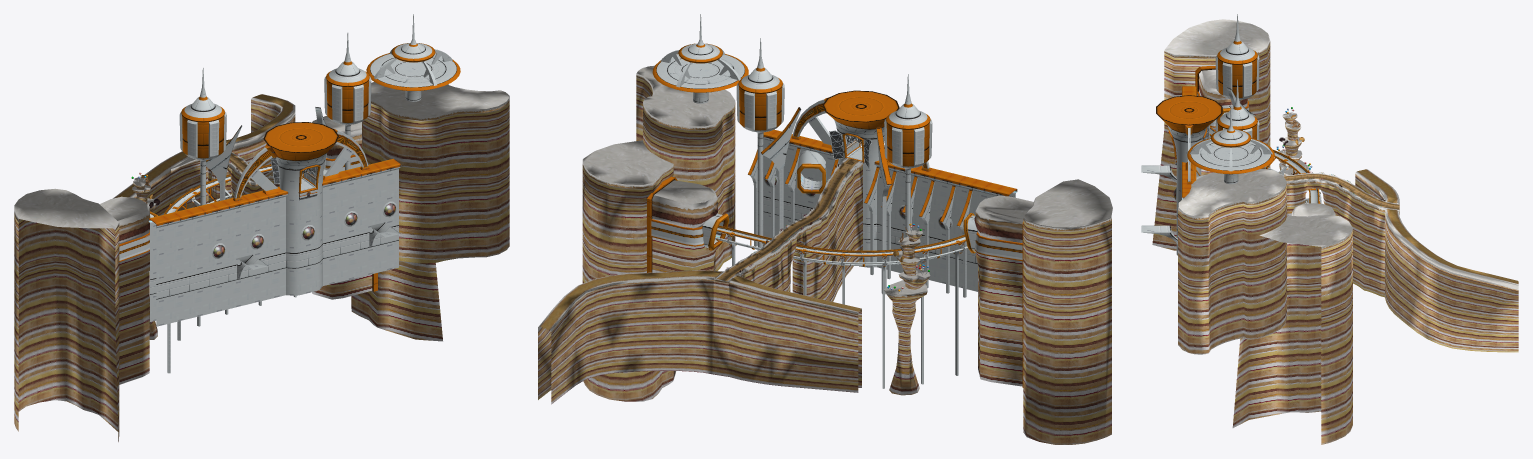
File: stg210_02.obj
3 renders of one model, left to right at view 1: azimuth 30°, elevation 25°; view 2: azimuth 150°, elevation 25°; view 3: azimuth 270°, elevation 25°, orthographic. The views are drawn at different scales.
Parts seen in each view (by area): view 1: polygon102, polygon137, polygon5, polygon99, polygon142, polygon104, polygon9, polygon4, polygon141, polygon139, polygon7, polygon0 (+16 smaller); view 2: polygon9, polygon102, polygon99, polygon10, polygon5, polygon7, polygon104, polygon101, polygon4, polygon97, polygon141, polygon139 (+29 smaller); view 3: polygon99, polygon5, polygon9, polygon102, polygon7, polygon4, polygon104, polygon101, polygon139, polygon137, polygon0, polygon153 (+15 smaller).
Part boxes in pixels (box(x1,y1,x2,y2)): polygon102: box(14, 211, 150, 441); polygon137: box(156, 131, 399, 326); polygon5: box(362, 102, 509, 263); polygon99: box(312, 136, 442, 341); polygon142: box(156, 179, 400, 299); polygon104: box(14, 188, 147, 228); polygon9: box(136, 101, 295, 215); polygon4: box(371, 82, 508, 117); polygon141: box(148, 128, 400, 228); polygon139: box(263, 122, 338, 160); polygon7: box(113, 94, 302, 198); polygon0: box(370, 53, 456, 87); polygon9: box(538, 166, 862, 404); polygon102: box(974, 214, 1111, 444); polygon99: box(582, 166, 717, 401); polygon10: box(763, 139, 996, 291); polygon5: box(636, 77, 735, 270); polygon7: box(538, 157, 862, 332); polygon104: box(978, 179, 1112, 227); polygon101: box(583, 140, 715, 203); polygon4: box(637, 65, 734, 126); polygon97: box(889, 234, 927, 395); polygon141: box(763, 97, 1017, 196); polygon139: box(822, 90, 899, 129); polygon99: box(1232, 231, 1352, 444); polygon5: box(1178, 185, 1286, 354); polygon9: box(1201, 169, 1518, 352); polygon102: box(1152, 43, 1270, 250); polygon7: box(1283, 169, 1518, 291); polygon4: box(1179, 169, 1286, 216); polygon104: box(1165, 19, 1269, 88); polygon101: box(1259, 203, 1352, 246); polygon139: box(1156, 95, 1222, 133); polygon137: box(1141, 128, 1202, 255); polygon0: box(1191, 139, 1270, 170); polygon153: box(1217, 41, 1257, 97).
Size of the model in its own units: 6079 by 4095 by 4486.
Materials: 40 (40 with a texture image).
